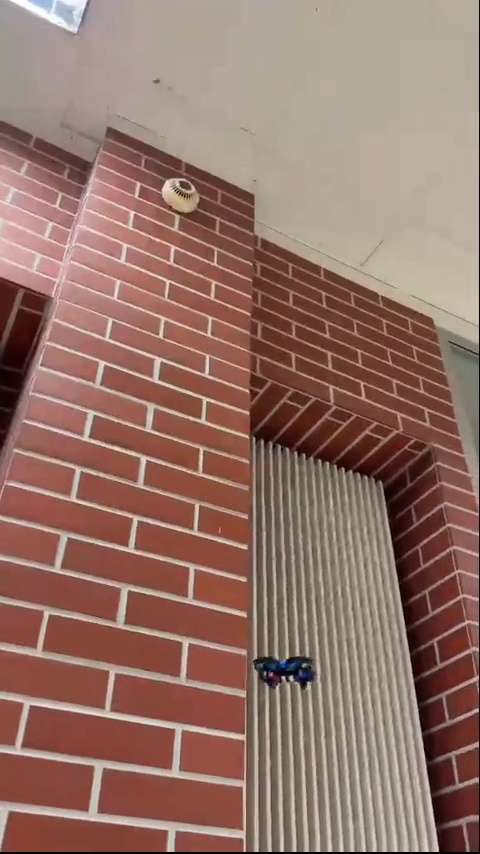drone: (251, 652, 317, 688)
